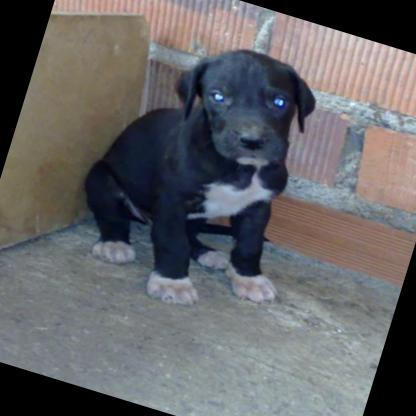Great_Dane: (58, 13, 346, 335)
